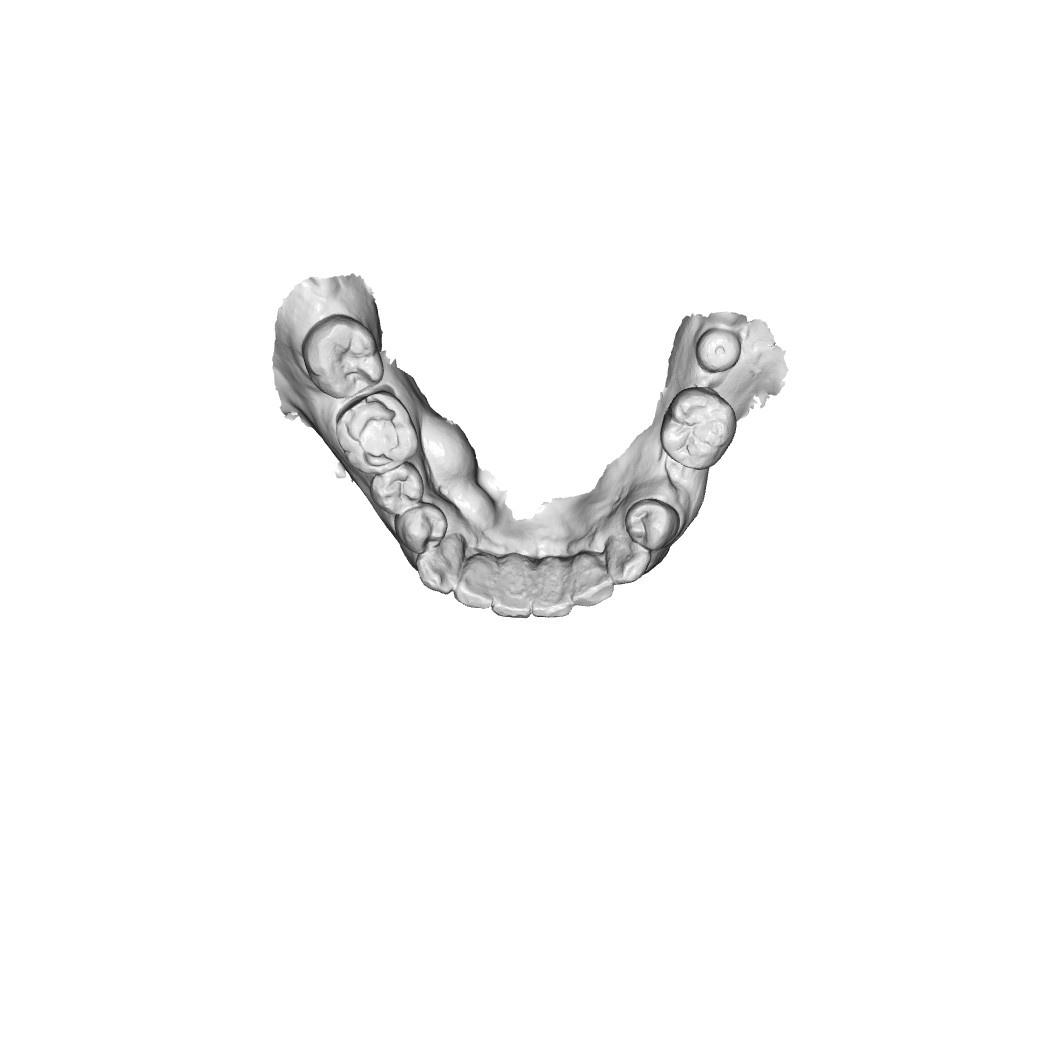canine: (418, 537, 463, 596), (606, 533, 651, 585), (656, 463, 700, 507)
implant: (693, 327, 743, 374)
incisor: (491, 557, 534, 622), (567, 549, 614, 608), (453, 554, 498, 611), (532, 567, 573, 622)
inlay: (342, 398, 404, 468)
molar: (302, 311, 387, 399), (659, 385, 739, 471)
premolar: (623, 496, 680, 550), (368, 462, 425, 516), (395, 502, 449, 555)
